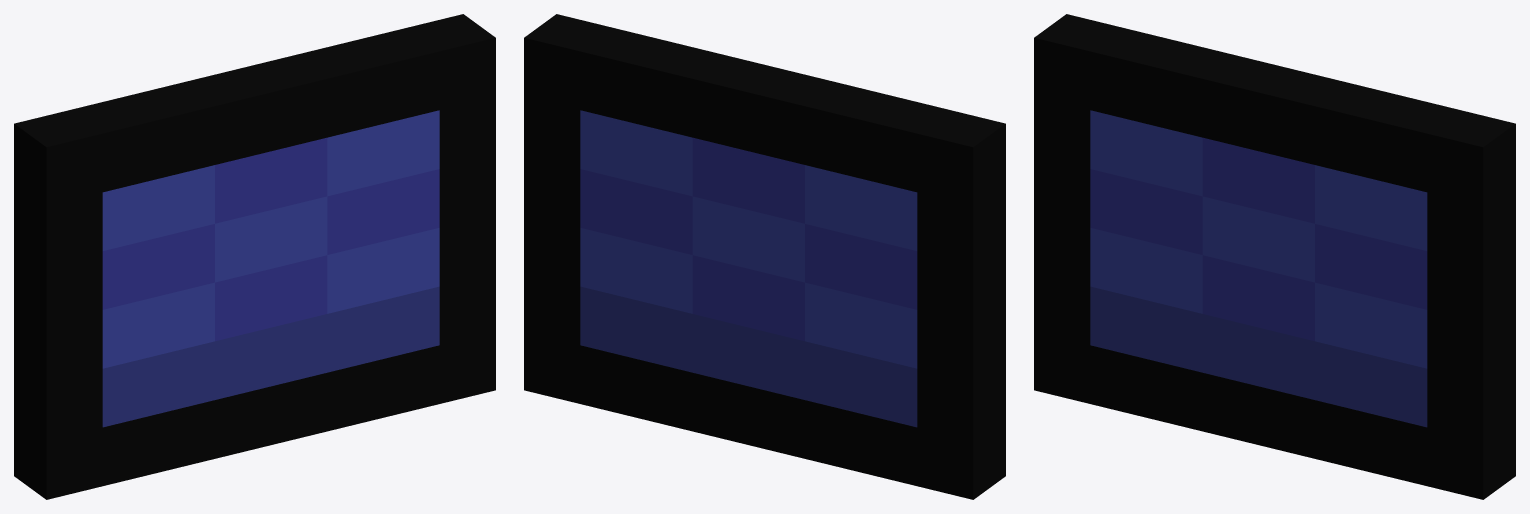
The model's file is Blue Carpet.glb.
3 renders of one model, left to right at view 1: azimuth 30°, elevation 25°; view 2: azimuth 150°, elevation 25°; view 3: azimuth 330°, elevation 25°, orthographic.
Parts seen in each view (by area): view 1: generated(Clone); view 2: generated(Clone); view 3: generated(Clone).
Part boxes in pixels (x1,y1,x2,y2): generated(Clone): [14, 14, 495, 499]; generated(Clone): [524, 14, 1005, 499]; generated(Clone): [1034, 14, 1515, 499].
Size of the model in its own units: 8 by 6 by 1.
Materials: 1 (1 with a texture image).
